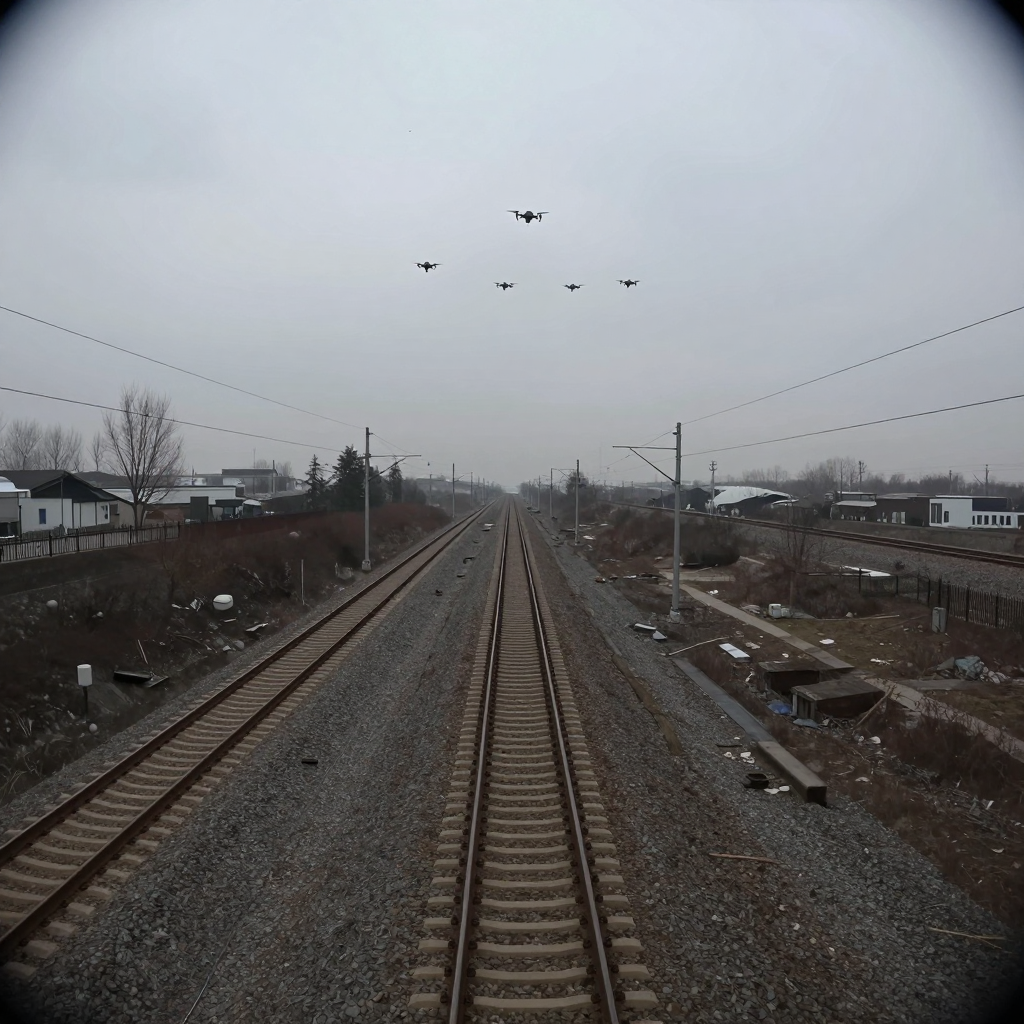drone: (512, 211, 549, 223), (413, 262, 443, 272), (616, 279, 640, 288), (562, 284, 586, 292), (493, 282, 512, 291), (512, 283, 519, 288)
